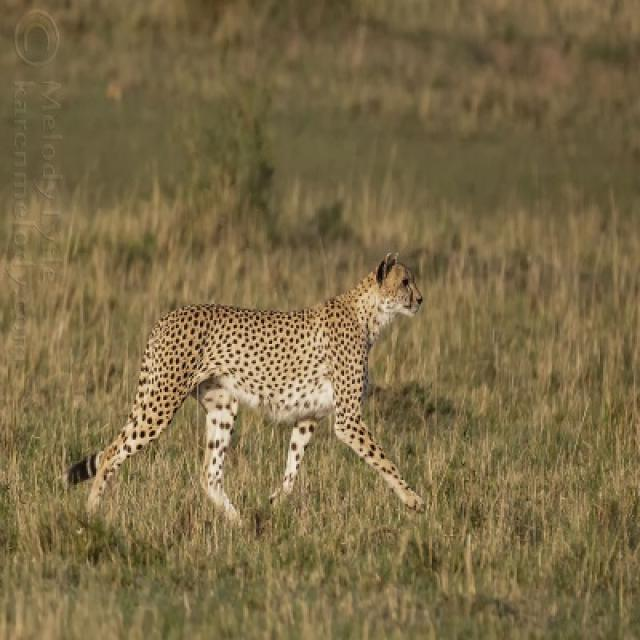Cheetah: (66, 258, 424, 522)
